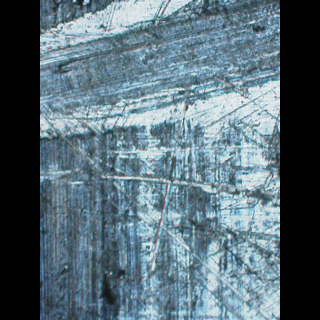d: (105, 0, 279, 316), (41, 0, 279, 144)
